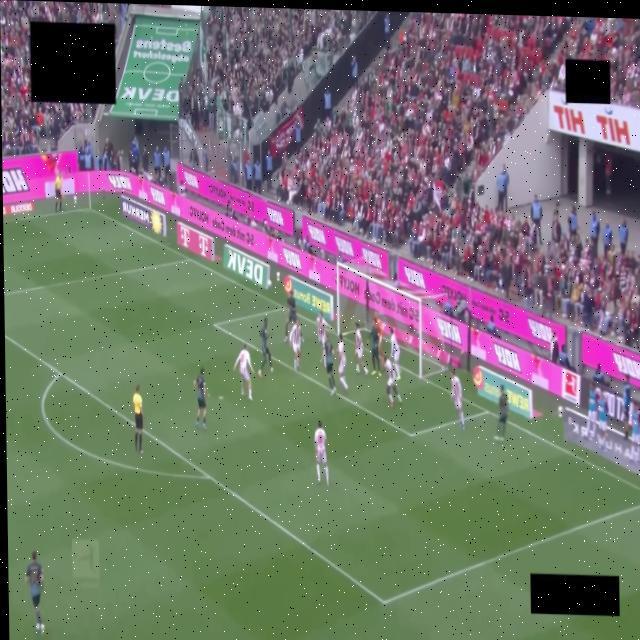ball: (266, 280, 270, 287)
player: (25, 552, 43, 633), (233, 344, 252, 400), (193, 367, 209, 429), (314, 421, 328, 485), (383, 358, 401, 406), (450, 369, 464, 429), (321, 335, 335, 395), (258, 318, 272, 376), (494, 385, 508, 441), (354, 322, 367, 375), (284, 289, 297, 341), (289, 321, 301, 370), (337, 333, 347, 391), (370, 319, 380, 376), (390, 327, 399, 380), (316, 312, 330, 346), (374, 317, 384, 362)
referee: (133, 385, 142, 453)
